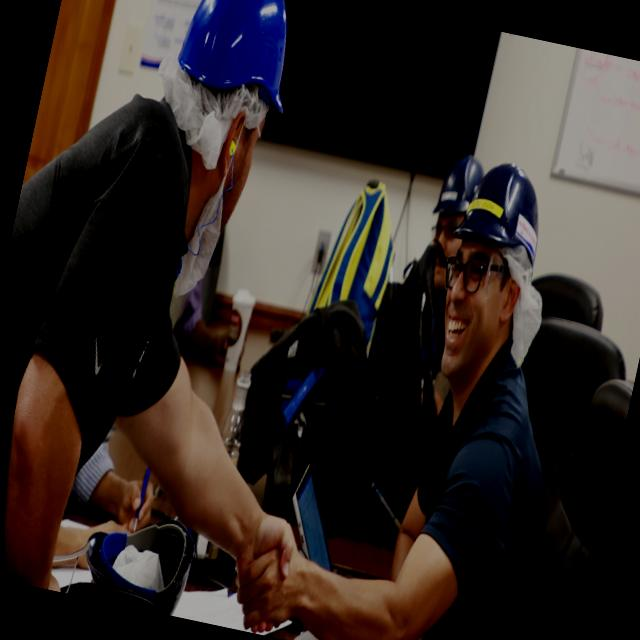goggles: (438, 248, 498, 298)
helmet: (170, 0, 314, 115), (450, 148, 554, 268), (431, 145, 488, 225)
no-vest: (0, 78, 221, 591), (383, 346, 595, 640)
